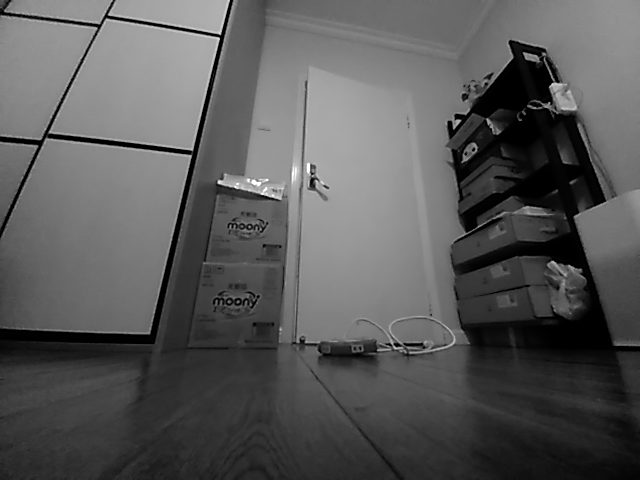wire: (342, 314, 456, 358)
